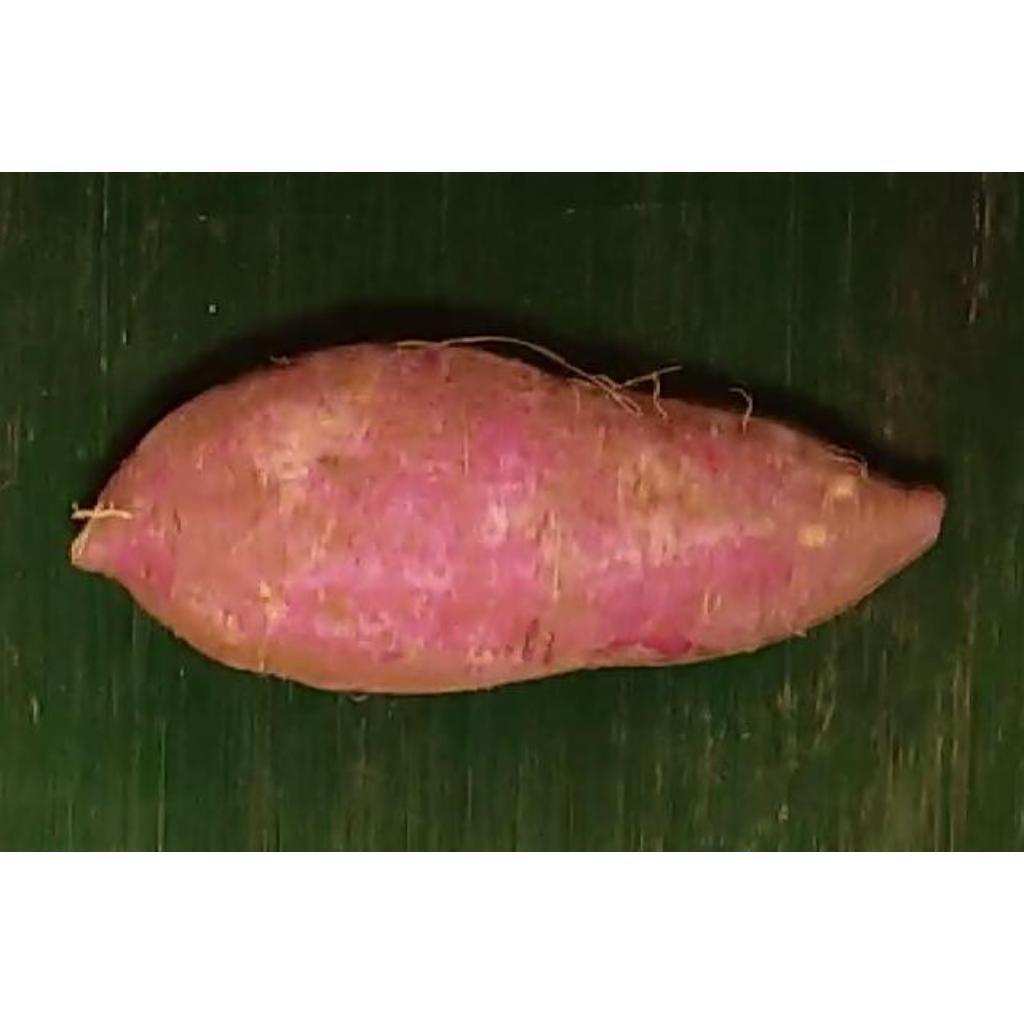Sweet Potato: (72, 343, 944, 699)
